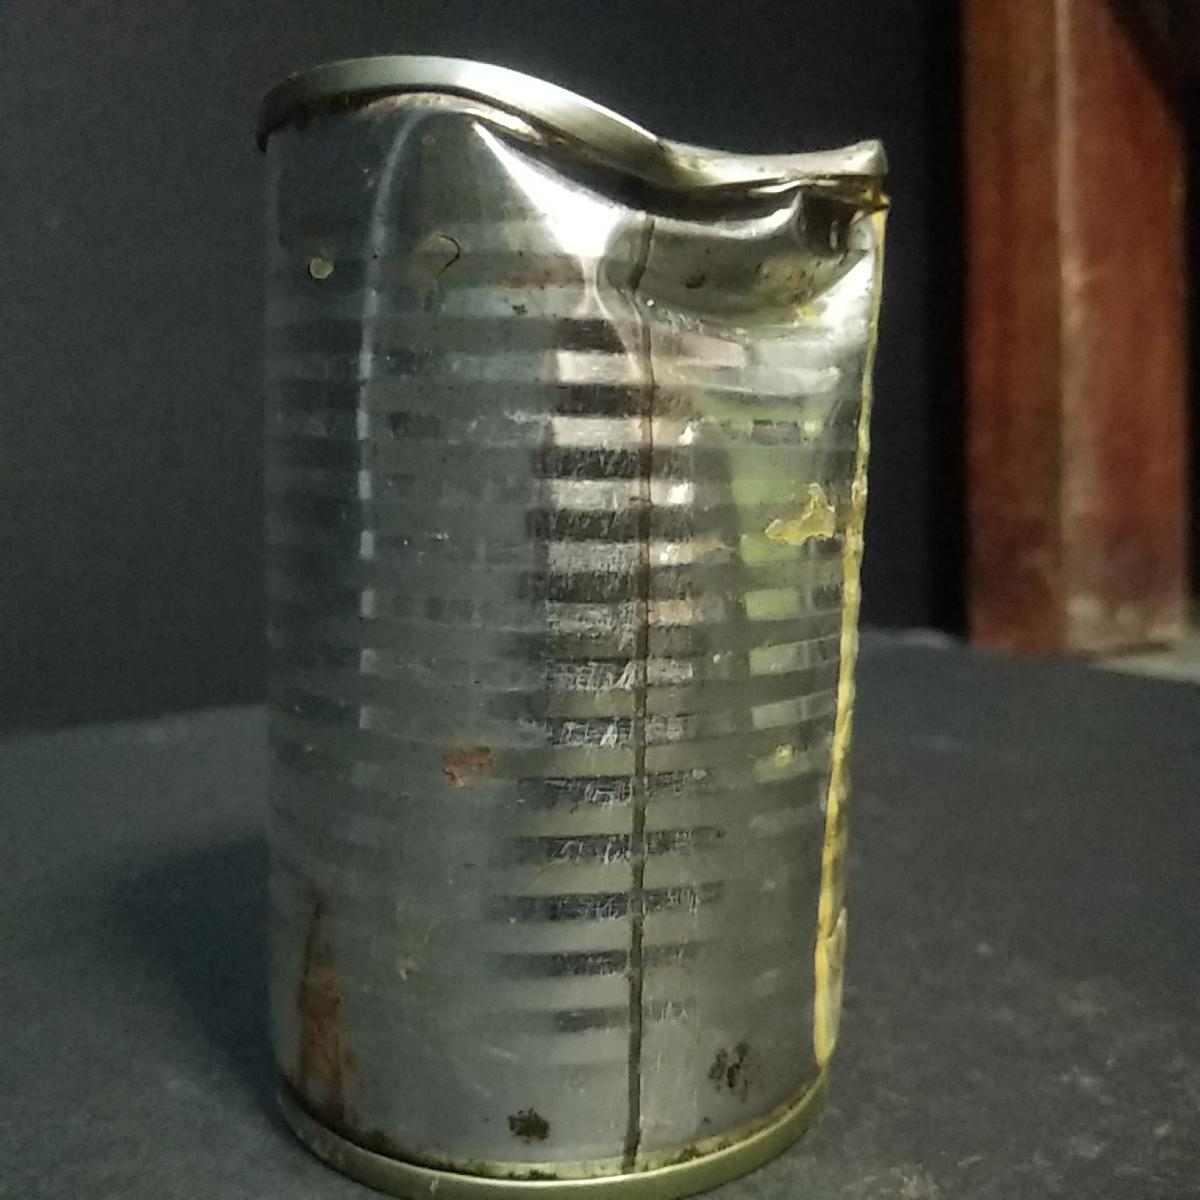Dented: (227, 38, 927, 1200)
